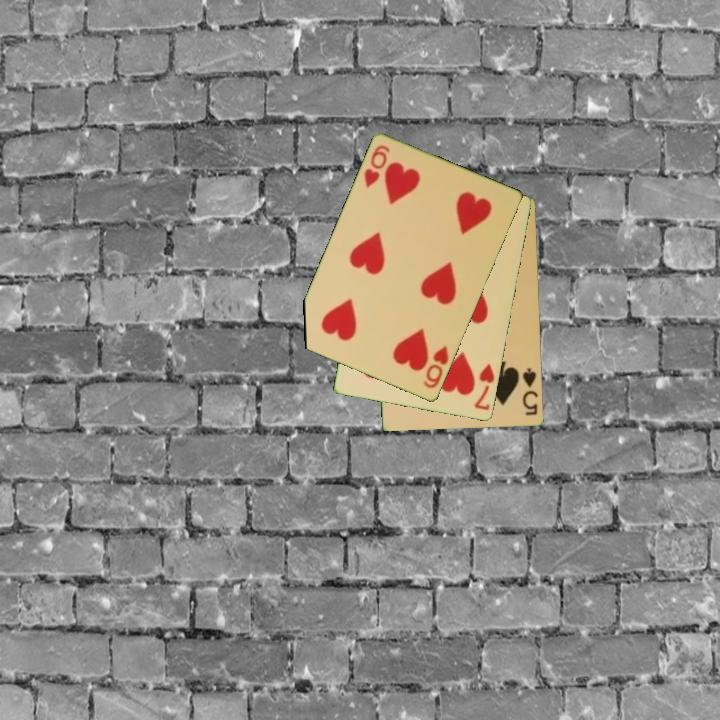5s: (519, 365, 541, 418)
6h: (360, 142, 393, 191), (420, 342, 452, 392)
7h: (471, 360, 498, 413)
